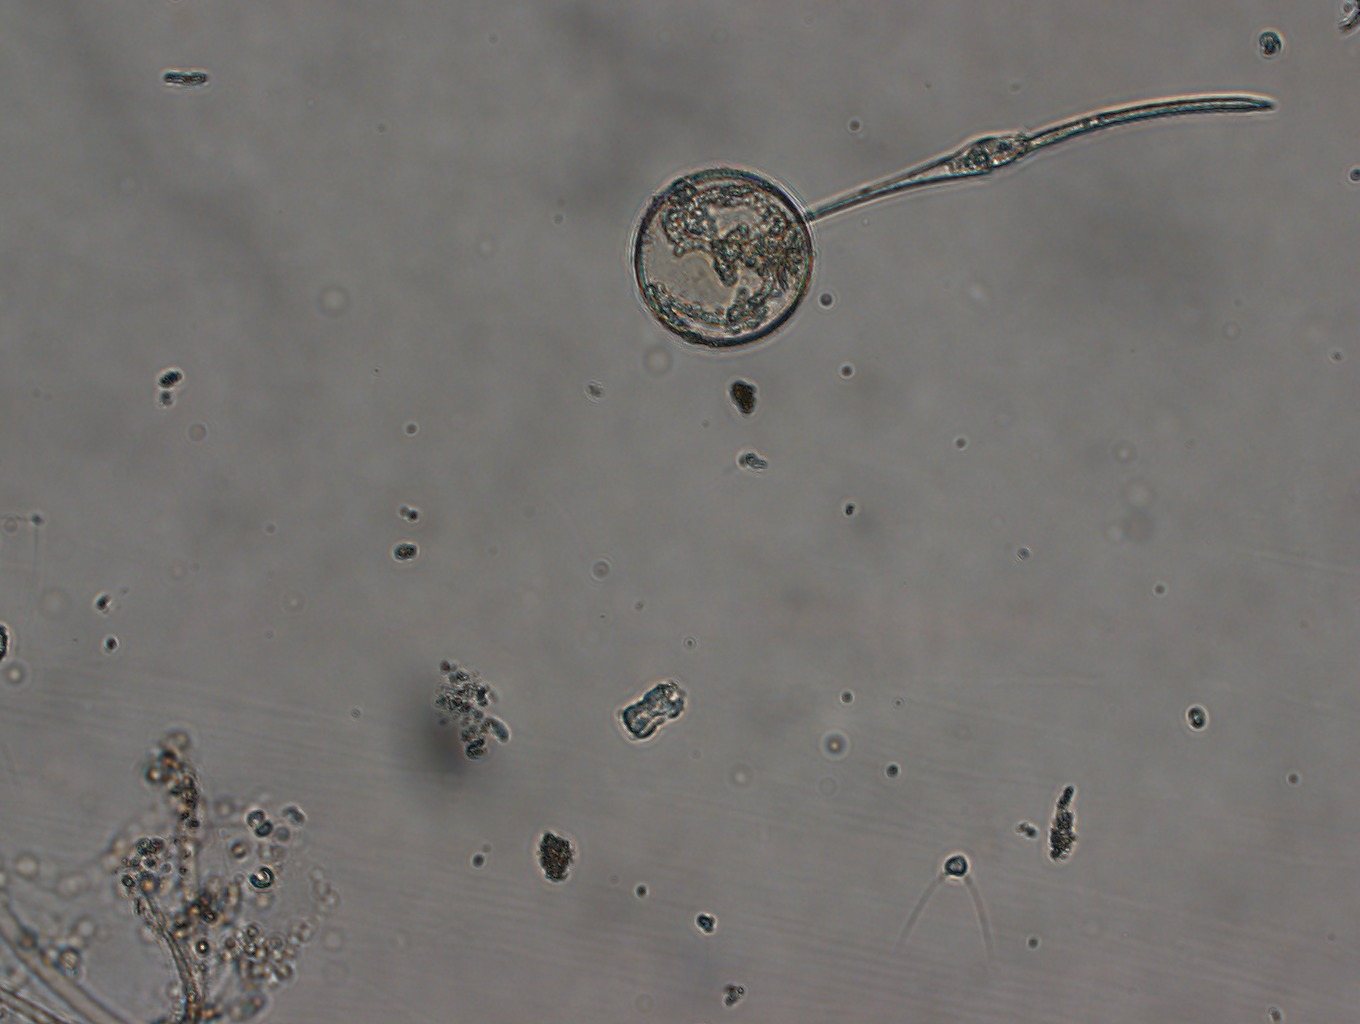ceratium fusus: (801, 91, 1279, 222)
coscinodiscus: (631, 166, 816, 350)
